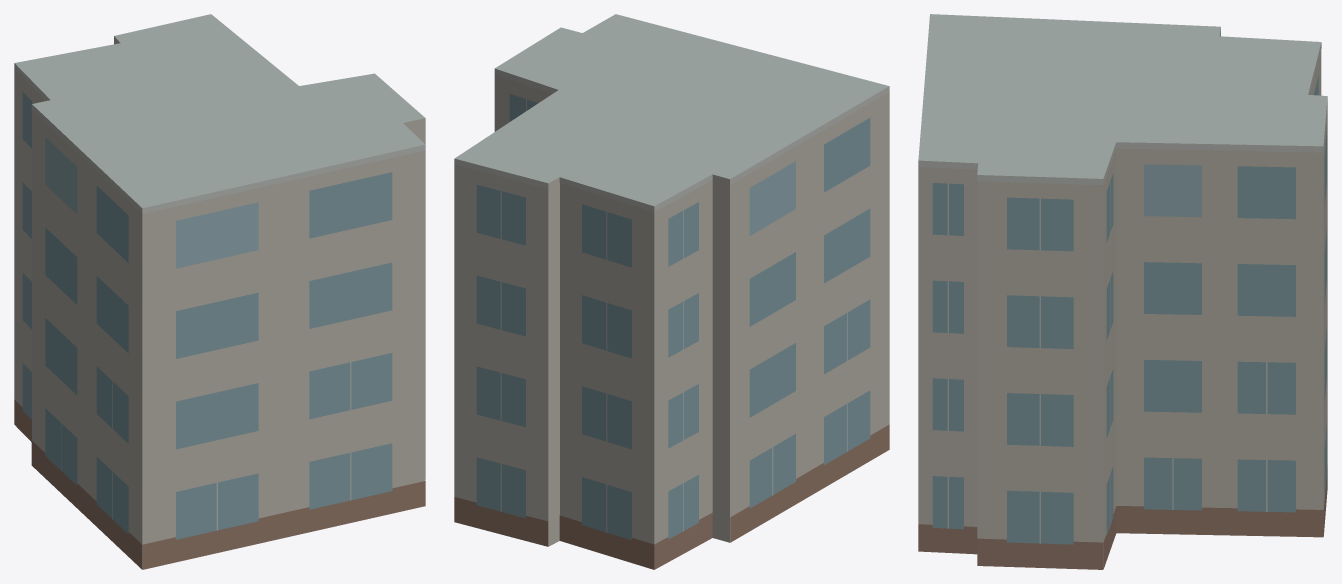
File: survey-upis-32476791.glb
3 views of the same model, side by side, from view 1: azimuth 30°, elevation 25°; view 2: azimuth 150°, elevation 25°; view 3: azimuth 270°, elevation 25° (orthographic). The views are drawn at different scales.
Parts seen in each view (by area): view 1: survey-upis-32476791.tmp; view 2: survey-upis-32476791.tmp; view 3: survey-upis-32476791.tmp.
Part boxes in pixels (<box>): survey-upis-32476791.tmp: <box>14,14,425,569</box>; survey-upis-32476791.tmp: <box>454,14,889,569</box>; survey-upis-32476791.tmp: <box>918,14,1327,569</box>.
Bounding box in the file's own units: 13.94 × 15.4 × 14.62.
